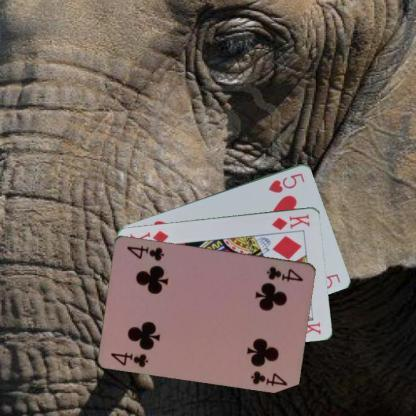4c: (108, 350, 150, 368), (264, 264, 304, 282)
5h: (266, 170, 306, 194)
Kd: (270, 212, 312, 232)
